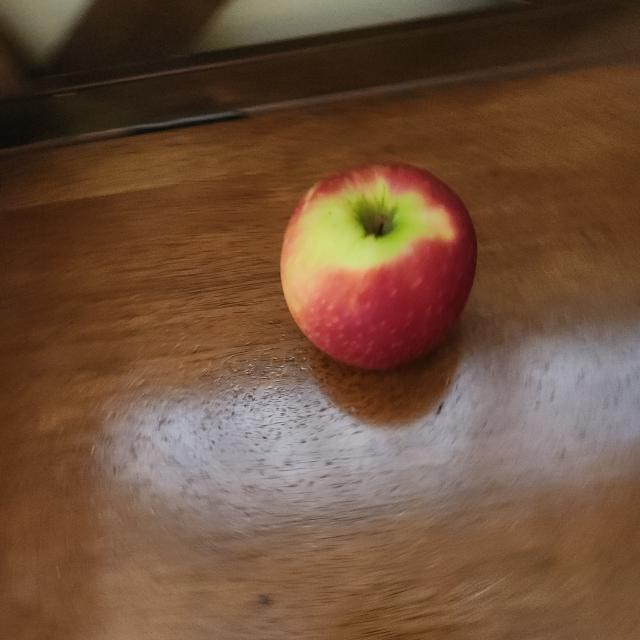apple: (274, 154, 488, 387)
